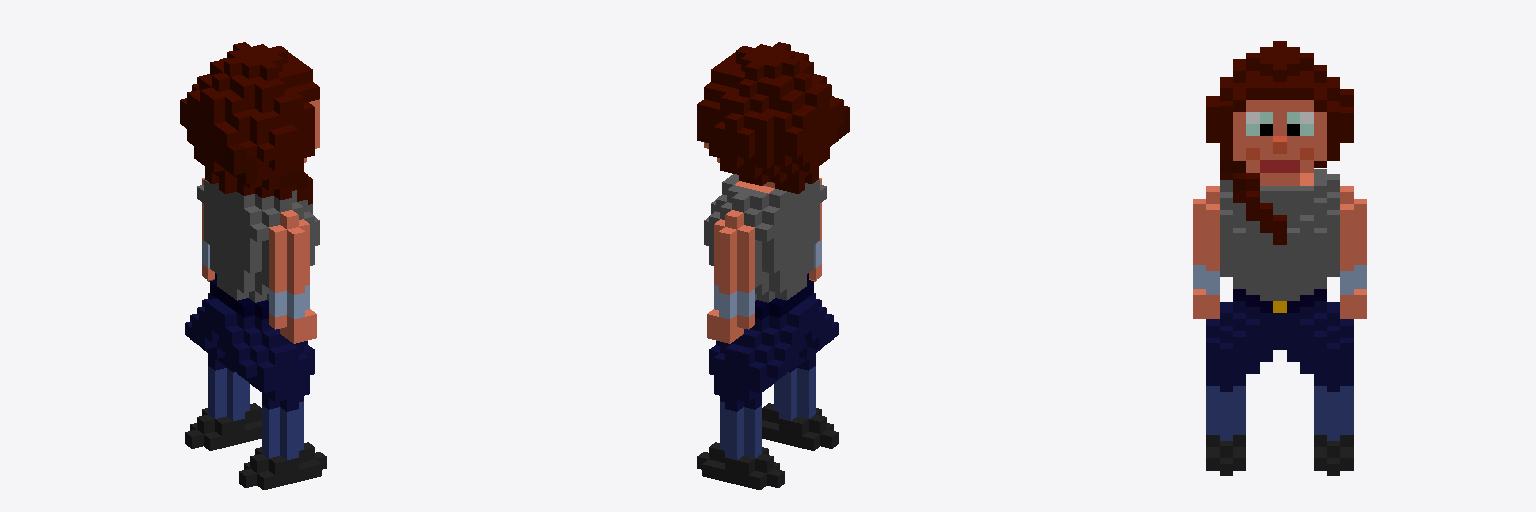
3 renders of one model, left to right at view 1: azimuth 30°, elevation 25°; view 2: azimuth 150°, elevation 25°; view 3: azimuth 270°, elevation 25°, orthographic.
Parts seen in each view (by area): view 1: object 1; view 2: object 1; view 3: object 1.
Part boxes in pixels (bbox=[...]): object 1: bbox=[180, 42, 326, 489]; object 1: bbox=[697, 42, 849, 489]; object 1: bbox=[1193, 41, 1366, 475].
Bounding box in the file's own units: 0.9 × 3.3 × 1.3.
Materials: 1 (1 with a texture image).